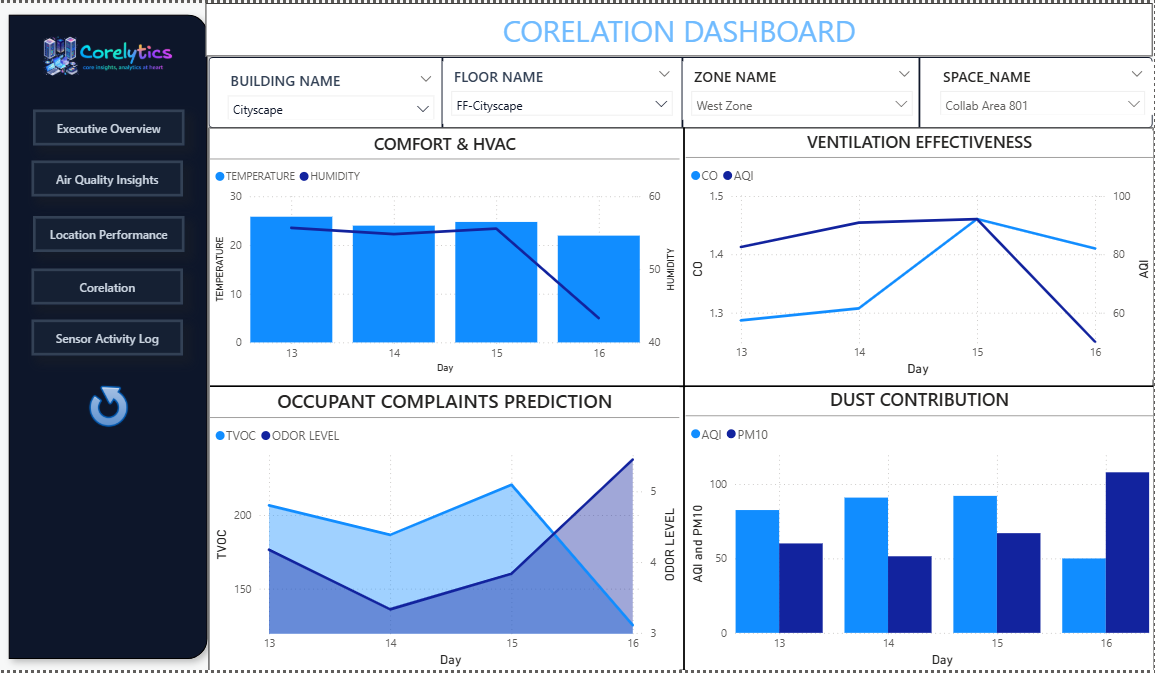

Layout of this report page (visuals, bound fields, positions):
{"tool":"powerbi","page":{"name":"corelation","canvas":[1300,750],"ordinal":3},"visuals":[{"type":"shape","box":[0,0,249.6,750.6],"z":0},{"type":"image","box":[0,0,249.6,119.8],"z":1000},{"type":"actionButton","box":[40.5,119.8,170.4,40.5],"z":2000},{"type":"actionButton","box":[38.8,177.1,170.4,40.5],"z":3000},{"type":"actionButton","box":[40.5,239.5,170.4,40.5],"z":4000},{"type":"actionButton","box":[38.8,298.5,170.4,40.5],"z":5000},{"type":"actionButton","box":[38.8,355.9,170.4,40.5],"z":6000},{"type":"shape","box":[235,0,1065,60],"z":7000},{"type":"shape","box":[238.3,60,1061.7,80],"z":8000},{"type":"slicer","fields":{"Values":["DIM_BUILDING.BUILDING_NAME"]},"box":[250,70,251.7,60],"z":9000},{"type":"shape","box":[495,60,13.3,80],"z":10000},{"type":"slicer","fields":{"Values":["DIM_FLOOR.FLOOR_NAME"]},"box":[501.7,65,268.3,70],"z":11000},{"type":"shape","box":[763.3,60,13.3,80],"z":12000},{"type":"slicer","fields":{"Values":["DIM_ZONE.ZONE_NAME"]},"box":[770,65,268.3,65],"z":13000},{"type":"shape","box":[1030,60,13.3,80],"z":14000},{"type":"slicer","fields":{"Values":["DIM_SPACE.SPACE_NAME"]},"box":[1050,65,250,60],"z":15000},{"type":"shape","box":[237.8,140,1062.6,610.6],"z":16000},{"type":"shape","box":[754,140,37.1,610.6],"z":17000},{"type":"shape","box":[239.1,420,1060.9,21.9],"z":18000},{"type":"lineClusteredColumnComboChart","title":"COMFORT & HVAC","fields":{"Category":["FACT_SENSOR_READINGS.READING_TIMESTAMP.Variation.Date Hierarchy.Day"],"Y":["Avg(FACT_SENSOR_READINGS.TEMPERATURE)"],"Y2":["Avg(FACT_SENSOR_READINGS.HUMIDITY)"]},"box":[239.5,145.1,527.9,274.9],"z":19000},{"type":"lineChart","title":"VENTILATION EFFECTIVENESS","fields":{"Category":["FACT_SENSOR_READINGS.READING_TIMESTAMP.Variation.Date Hierarchy.Day"],"Y":["Avg(FACT_SENSOR_READINGS.CO)"],"Y2":["Avg(FACT_SENSOR_READINGS.AQI)"]},"box":[774.2,143.4,526.2,280],"z":20000},{"type":"areaChart","title":"OCCUPANT COMPLAINTS PREDICTION","fields":{"Category":["FACT_SENSOR_READINGS.READING_TIMESTAMP.Variation.Date Hierarchy.Day"],"Y":["Avg(FACT_SENSOR_READINGS.TVOC)"],"Y2":["Avg(FACT_SENSOR_READINGS.ODOR_LEVEL)"]},"box":[239.5,431.8,527.9,318.8],"z":21000},{"type":"clusteredColumnChart","title":"DUST CONTRIBUTION","fields":{"Category":["FACT_SENSOR_READINGS.READING_TIMESTAMP.Variation.Date Hierarchy.Day"],"Y":["Avg(FACT_SENSOR_READINGS.AQI)","FACT_SENSOR_READINGS.Avg PM10"]},"box":[774.2,431.8,526.2,318.8],"z":22000}]}

Visuals, with their boxes in screenshot pixels (x1, y1, x2, y2), scaled from the page's 1300x750 canvas onto the 1155x673 screenshot:
shape: BBox(0, 0, 222, 672)
image: BBox(0, 0, 222, 108)
actionButton: BBox(36, 108, 187, 144)
actionButton: BBox(34, 159, 186, 195)
actionButton: BBox(36, 215, 187, 251)
actionButton: BBox(34, 268, 186, 304)
actionButton: BBox(34, 319, 186, 356)
shape: BBox(209, 0, 1154, 54)
shape: BBox(212, 54, 1154, 126)
slicer - DIM_BUILDING.BUILDING_NAME: BBox(222, 63, 446, 117)
shape: BBox(440, 54, 452, 126)
slicer - DIM_FLOOR.FLOOR_NAME: BBox(446, 58, 684, 121)
shape: BBox(678, 54, 690, 126)
slicer - DIM_ZONE.ZONE_NAME: BBox(684, 58, 922, 117)
shape: BBox(915, 54, 927, 126)
slicer - DIM_SPACE.SPACE_NAME: BBox(933, 58, 1154, 112)
shape: BBox(211, 126, 1154, 672)
shape: BBox(670, 126, 703, 672)
shape: BBox(212, 377, 1154, 397)
"COMFORT & HVAC" lineClusteredColumnComboChart: BBox(213, 130, 682, 377)
"VENTILATION EFFECTIVENESS" lineChart: BBox(688, 129, 1154, 380)
"OCCUPANT COMPLAINTS PREDICTION" areaChart: BBox(213, 387, 682, 672)
"DUST CONTRIBUTION" clusteredColumnChart: BBox(688, 387, 1154, 672)
